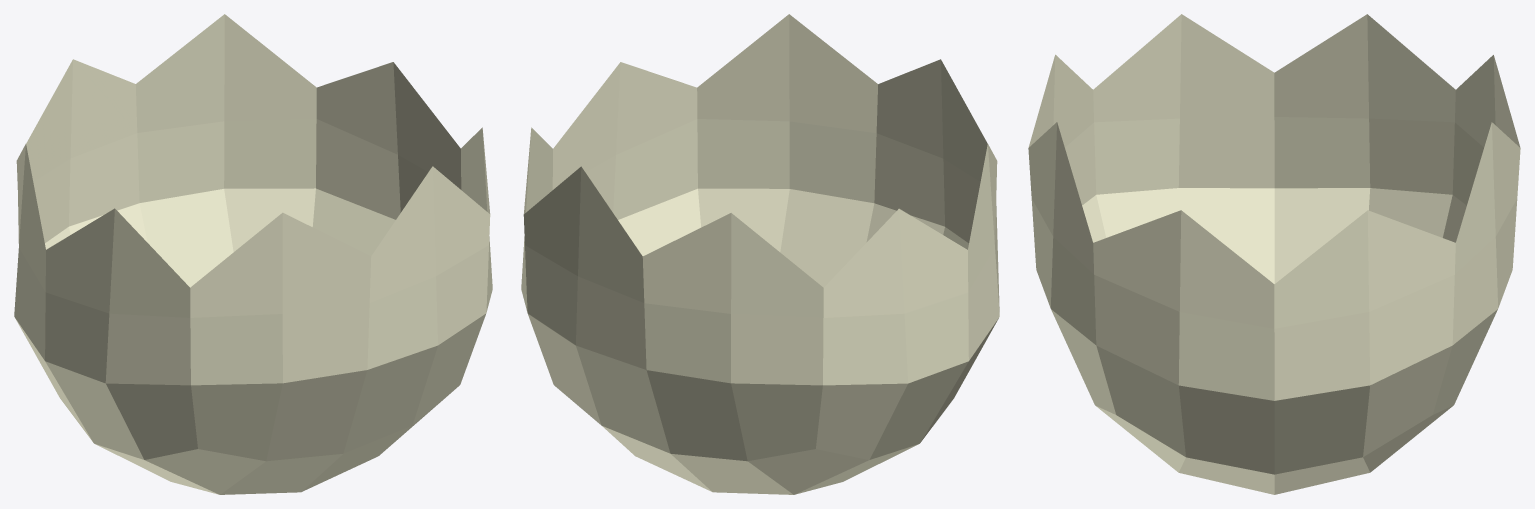
The model's file is eggshell_bottom.glb.
3 renders of one model, left to right at view 1: azimuth 30°, elevation 25°; view 2: azimuth 150°, elevation 25°; view 3: azimuth 270°, elevation 25°, orthographic. The views are drawn at different scales.
Parts seen in each view (by area): view 1: eggshell_bottom; view 2: eggshell_bottom; view 3: eggshell_bottom.
Boxes of the visible parts, x1,y1,x2,y2 form: eggshell_bottom: [14, 14, 492, 494]; eggshell_bottom: [521, 14, 999, 494]; eggshell_bottom: [1028, 14, 1520, 494].
Bounding box in the file's own units: 0.6829 × 0.581 × 0.668.
1 material, 1 textured.
